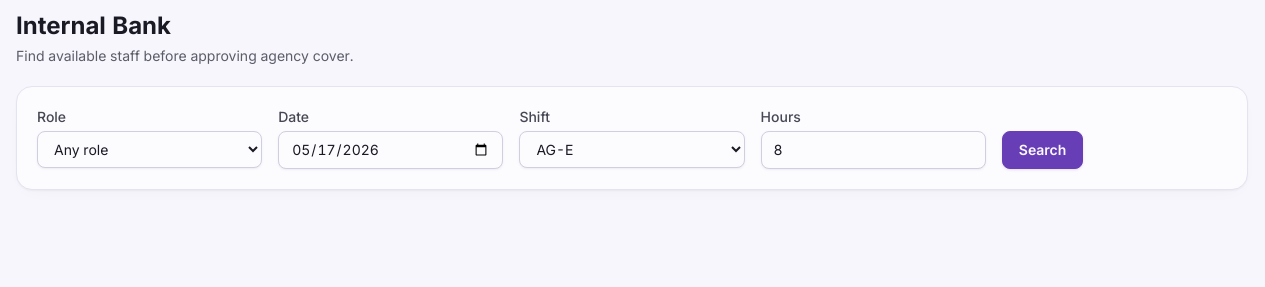
Test case: InternalBank › shows the internal-bank loading message while searching
Click the button "Search". click: (1043, 150)
box: [1002, 131, 1083, 169]
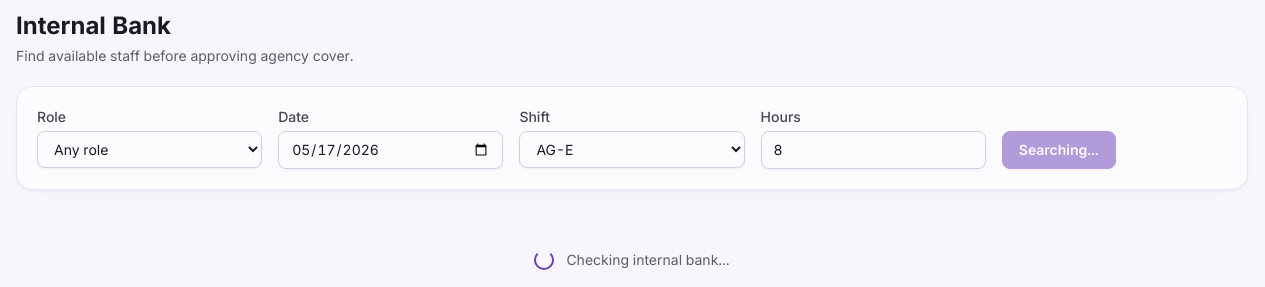
Expected: the text "Checking internal bank..." is shown, [566, 250, 730, 270]
